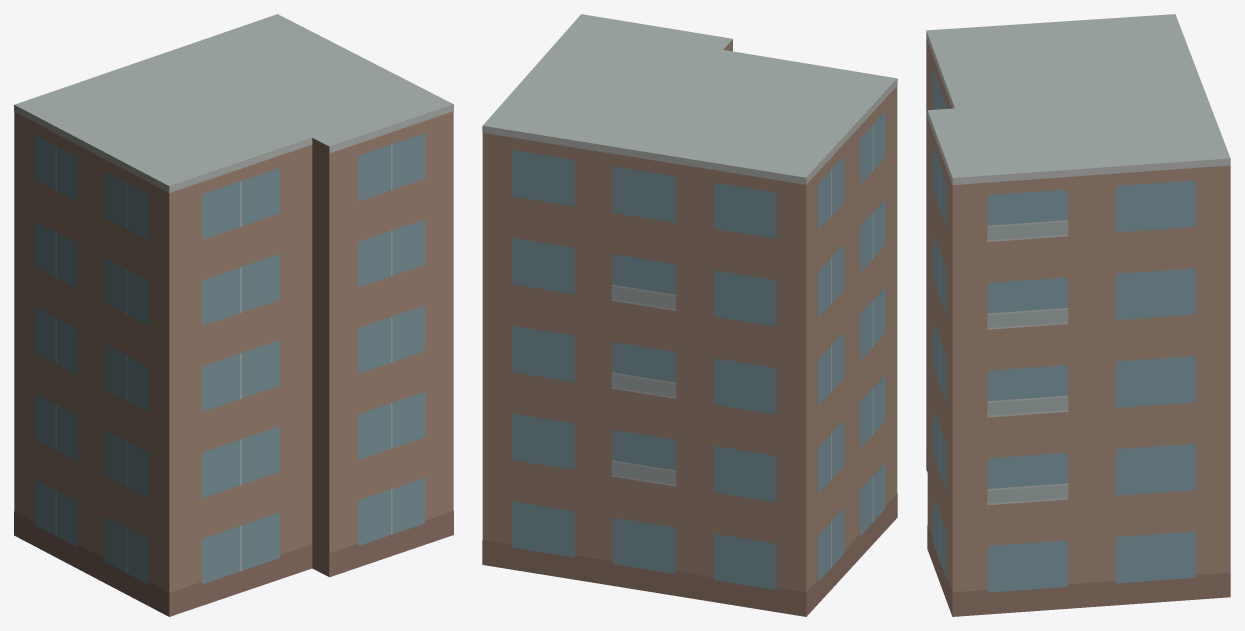
The model's file is survey-upis-32749109.glb.
3 views of the same model, side by side, from view 1: azimuth 30°, elevation 25°; view 2: azimuth 150°, elevation 25°; view 3: azimuth 270°, elevation 25° (orthographic).
Visible parts, largest first — view 1: survey-upis-32749109.tmp; view 2: survey-upis-32749109.tmp; view 3: survey-upis-32749109.tmp.
Part boxes in pixels (x1,y1,x2,y2): survey-upis-32749109.tmp: [14, 14, 453, 616]; survey-upis-32749109.tmp: [482, 14, 897, 616]; survey-upis-32749109.tmp: [926, 14, 1230, 616].
Bounding box in the file's own units: 12.24 × 15.25 × 9.6.
